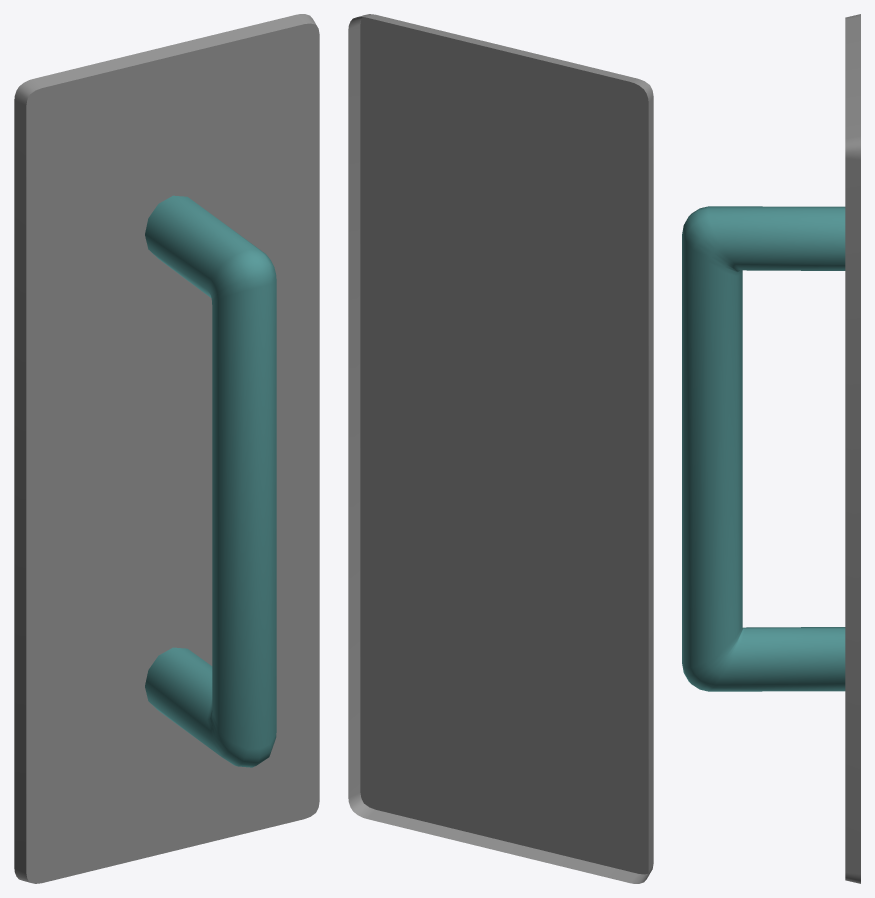
Rendered from handle3.fbx.
3 views of the same model, side by side, from view 1: azimuth 30°, elevation 25°; view 2: azimuth 150°, elevation 25°; view 3: azimuth 270°, elevation 25° (orthographic). The views are drawn at different scales.
Parts seen in each view (by area): view 1: handle3; view 2: handle3; view 3: handle3.
Boxes of the visible parts, left/top/right/bottom form: handle3: left=14, top=14, right=319, bottom=883; handle3: left=348, top=14, right=653, bottom=883; handle3: left=682, top=14, right=860, bottom=883.
Size of the model in its own units: 8 by 20.4 by 4.44.
